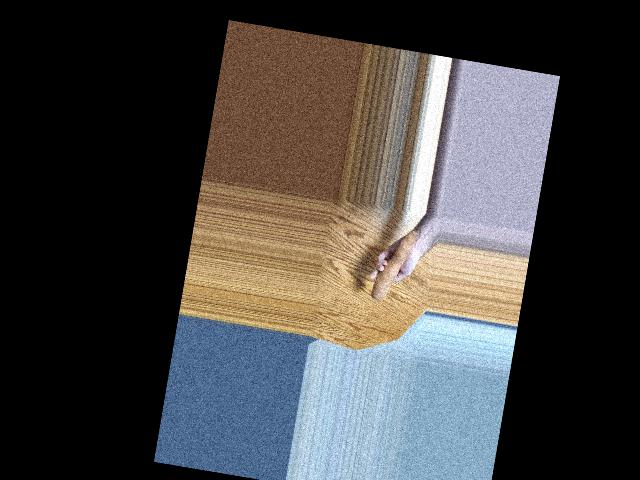sweet_potato: (375, 226, 419, 302)
